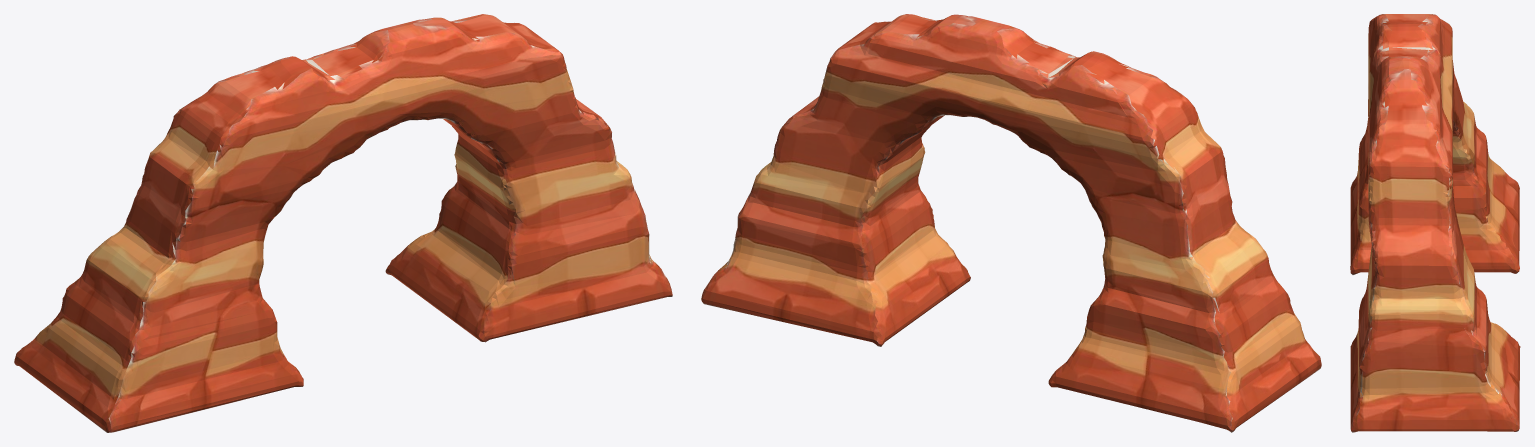
The model's file is landmark_mesa.glb.
3 views of the same model, side by side, from view 1: azimuth 30°, elevation 25°; view 2: azimuth 150°, elevation 25°; view 3: azimuth 270°, elevation 25° (orthographic). The views are drawn at different scales.
Parts seen in each view (by area): view 1: landmark_mesa; view 2: landmark_mesa; view 3: landmark_mesa.
Part boxes in pixels (bbox=[...]): landmark_mesa: bbox=[14, 14, 672, 432]; landmark_mesa: bbox=[701, 14, 1321, 432]; landmark_mesa: bbox=[1350, 14, 1520, 432].
Size of the model in its own units: 42.41 by 21.82 by 12.6.
1 material, 1 textured.
